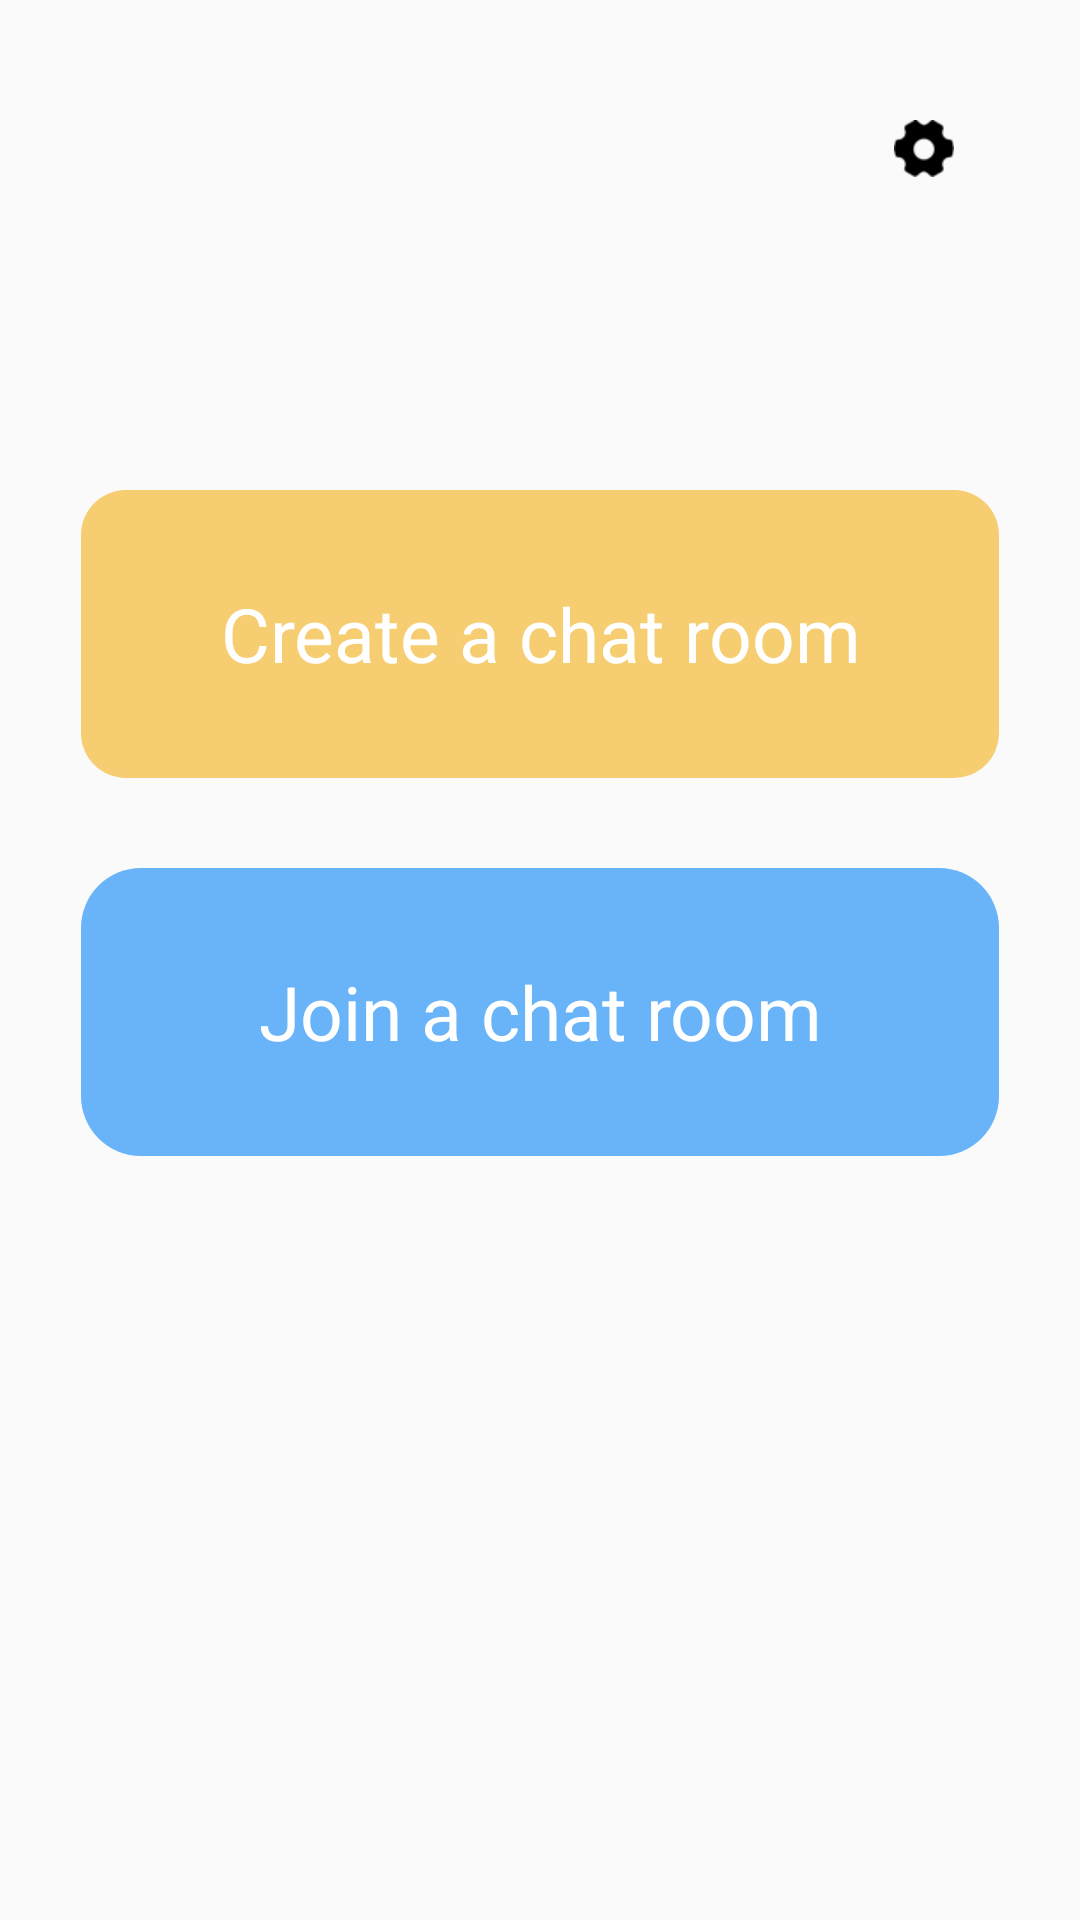

Point at icon controls on the screen. Image size 1080 × 1920, points as point (x, y).
setting: point (924, 148)
